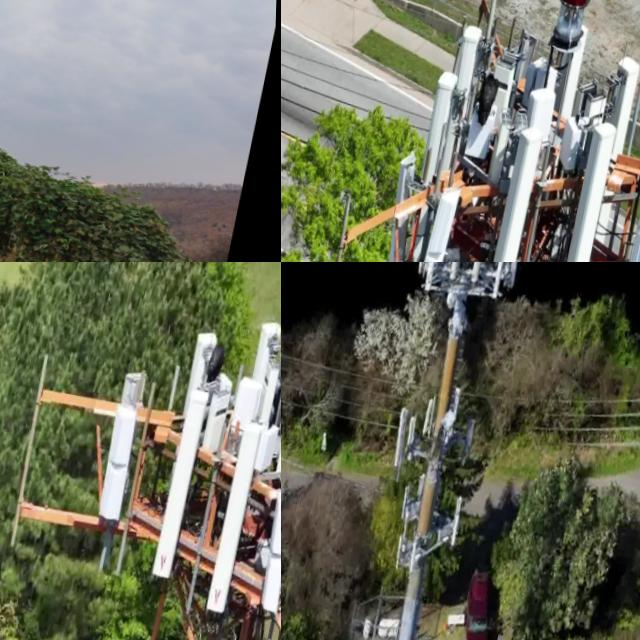GSM Antenna: (200, 408, 272, 626), (148, 372, 219, 590), (550, 112, 623, 262), (480, 121, 550, 262), (88, 390, 148, 527), (372, 137, 434, 262), (441, 8, 492, 138), (414, 62, 463, 181), (597, 46, 640, 160), (412, 173, 467, 262), (250, 482, 281, 618), (387, 400, 417, 471), (624, 152, 640, 262), (446, 490, 471, 550), (416, 390, 442, 442), (464, 414, 481, 466), (445, 386, 466, 428), (419, 262, 446, 292), (489, 262, 511, 296), (398, 483, 416, 520), (394, 532, 410, 571), (444, 262, 471, 285), (466, 262, 490, 284), (416, 463, 428, 504)
